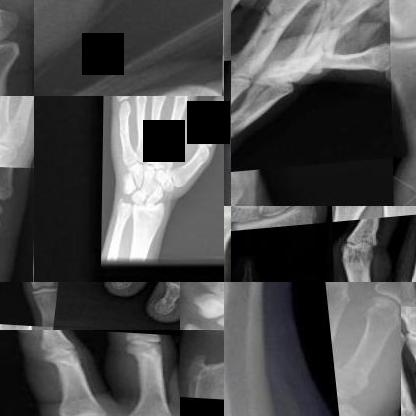fracture: (298, 0, 353, 69), (182, 346, 223, 392), (330, 352, 370, 392), (255, 2, 294, 42), (362, 44, 389, 96), (231, 0, 250, 49), (117, 118, 134, 149)
